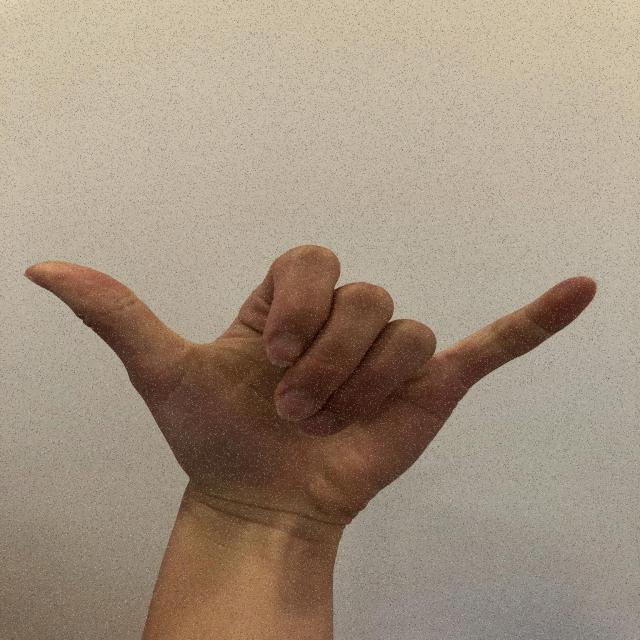Y: (18, 240, 604, 536)
